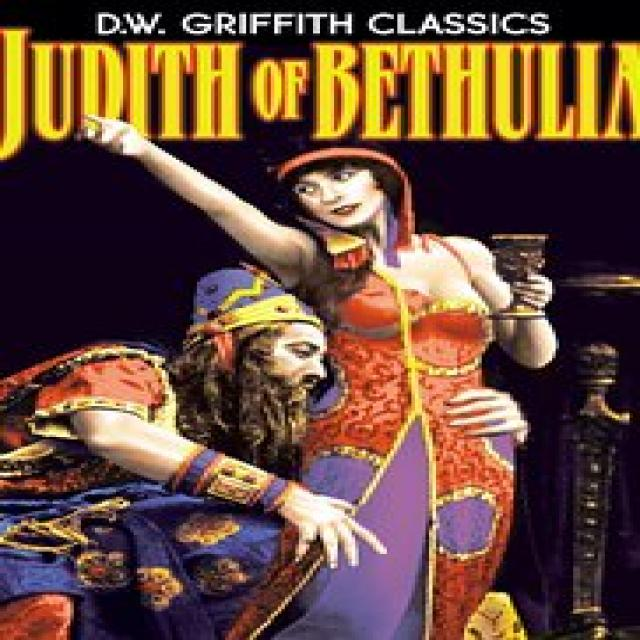movie-judul: (0, 26, 640, 160)
picture: (0, 115, 640, 638)
